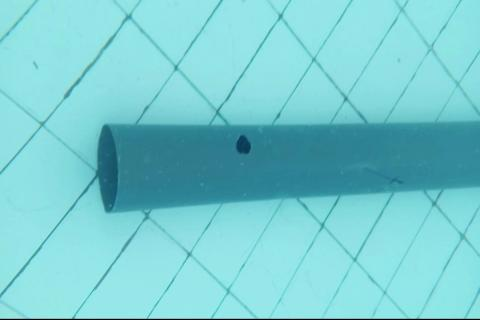kebocoran: (235, 133, 252, 154)
keretakan: (364, 167, 404, 186)
